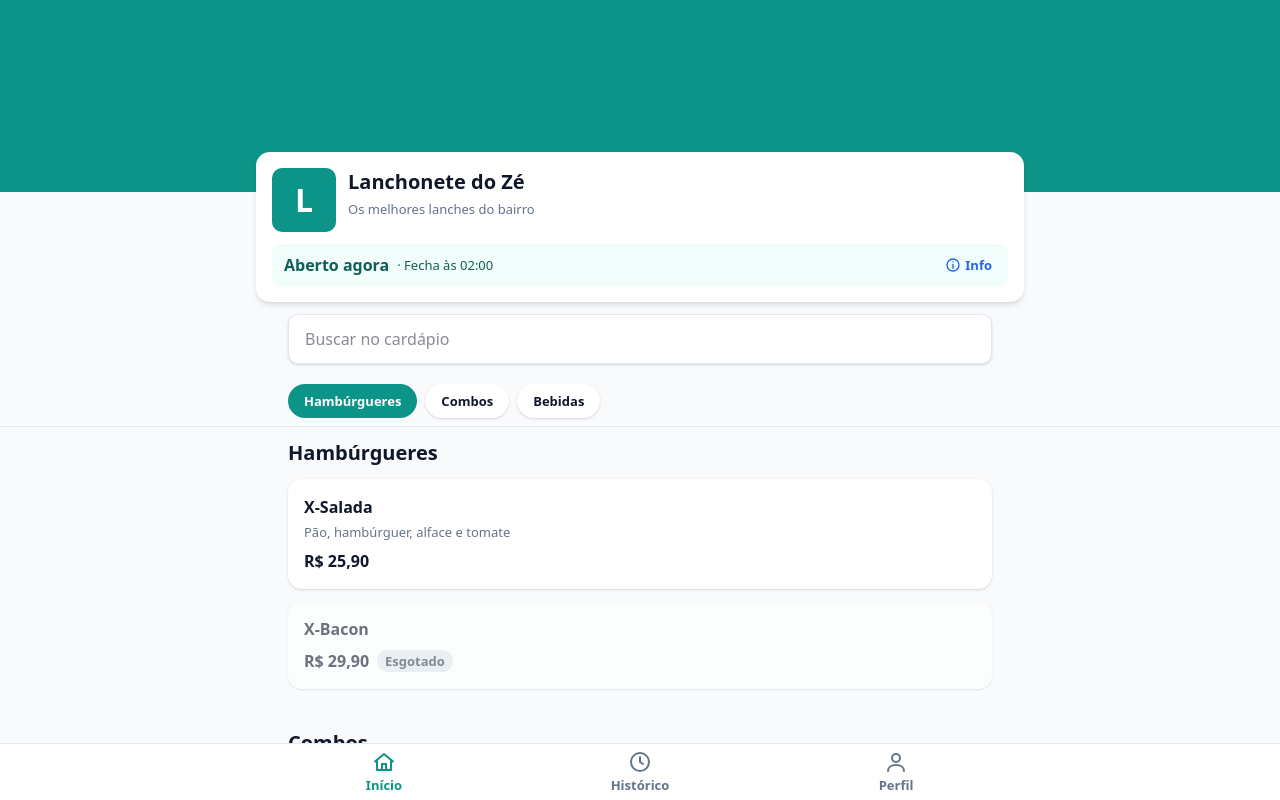
it: escolher o produto › o botão mostra o preço com opções e quantidade
Check: the heading "Lanchonete do Zé" is shown, box [348,168,535,196]
Click the button "X-Salada" at (338, 507), box [304,495,373,519]
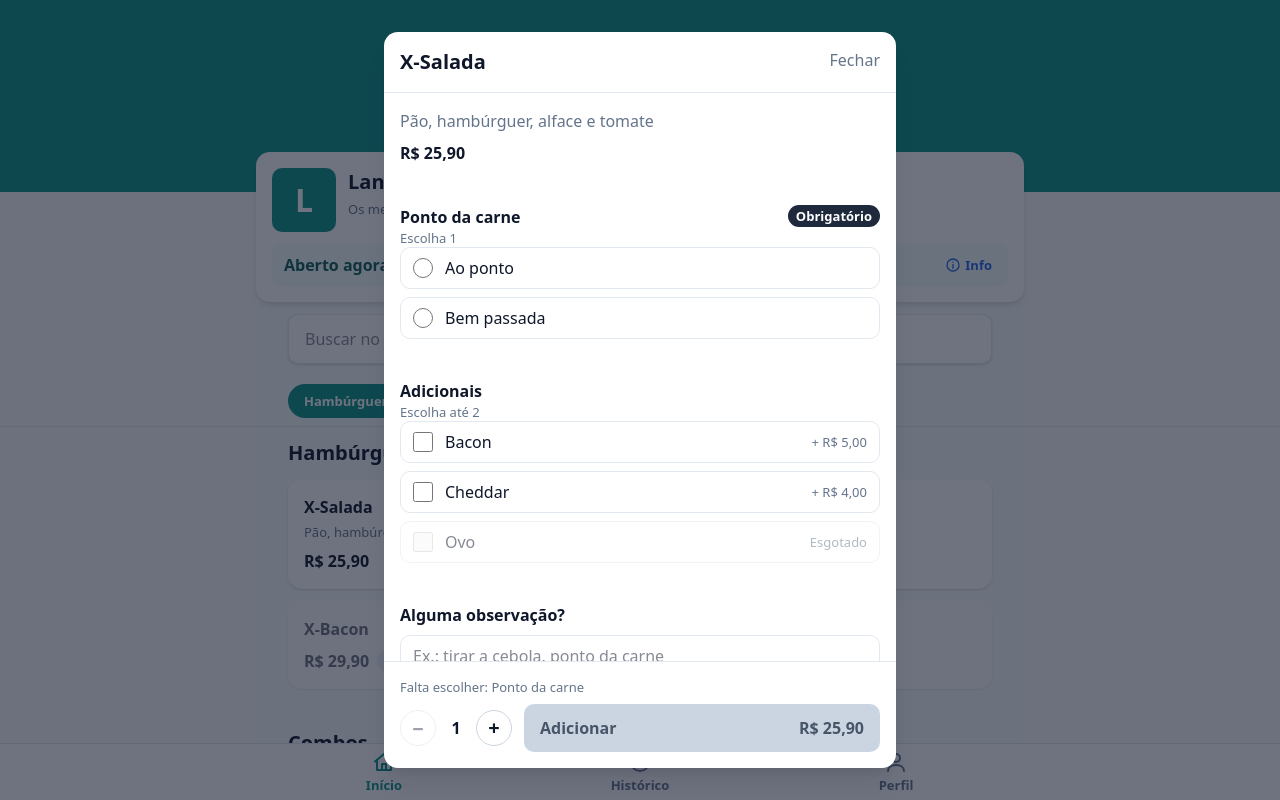
Click the radio button labelled "Ao ponto" at (423, 268), box [413,258,433,278]
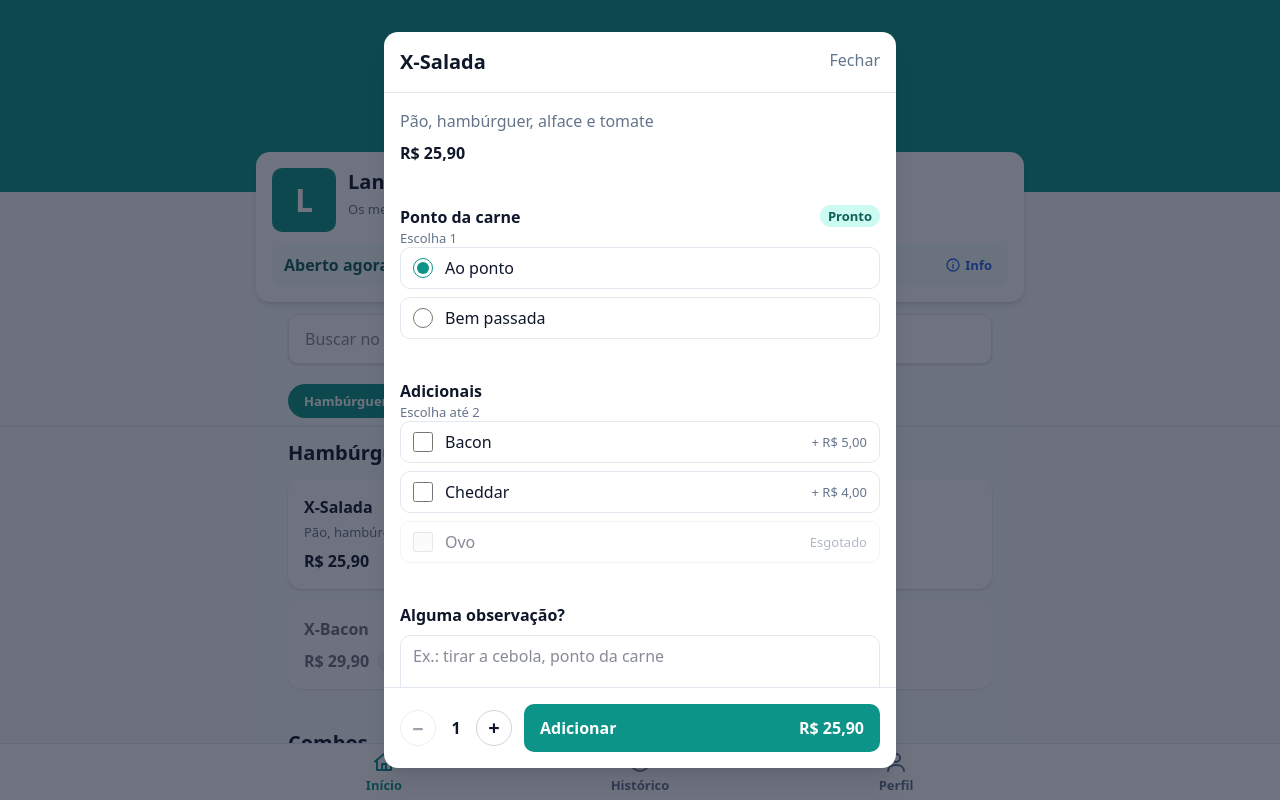
Click the checkbox labelled "Bacon + R$ 5,00" at (423, 442), box [413,432,433,452]
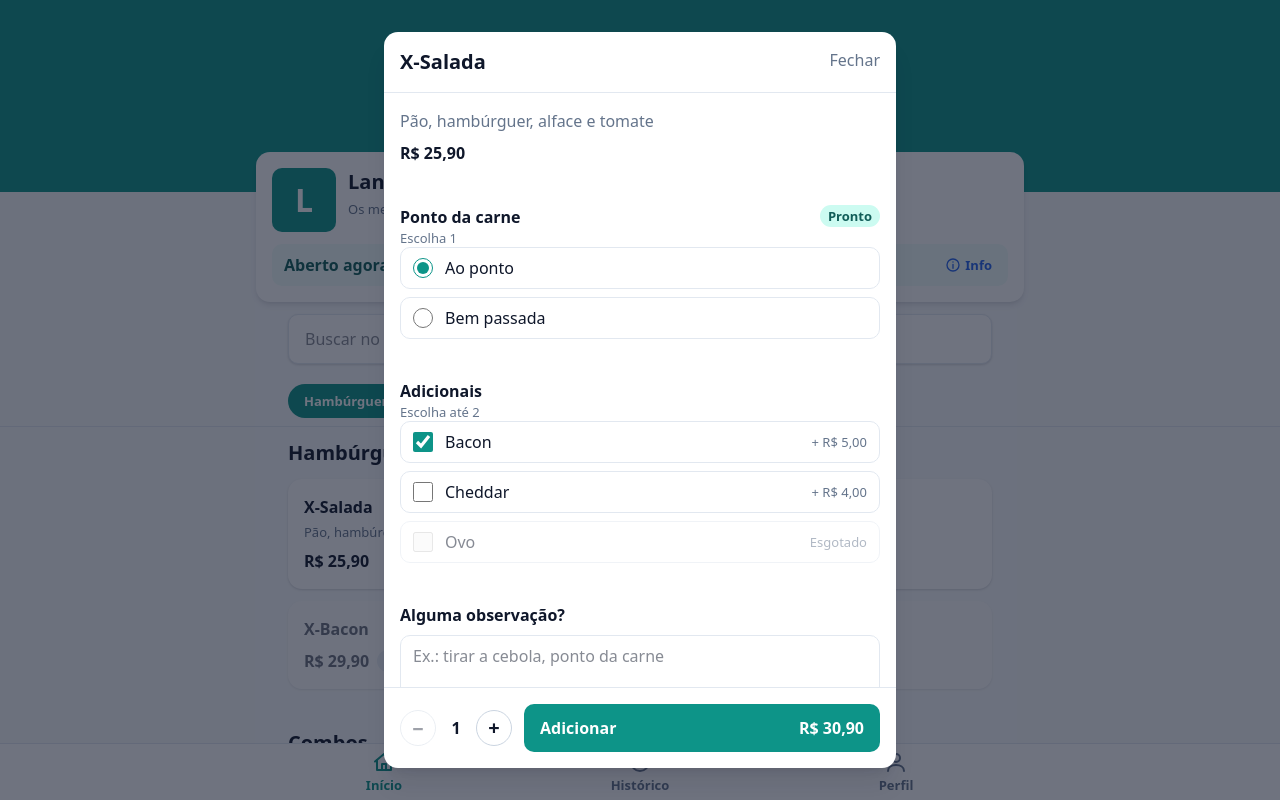
Click the checkbox labelled "Cheddar + R$ 4,00" at (423, 492), box [413,482,433,502]
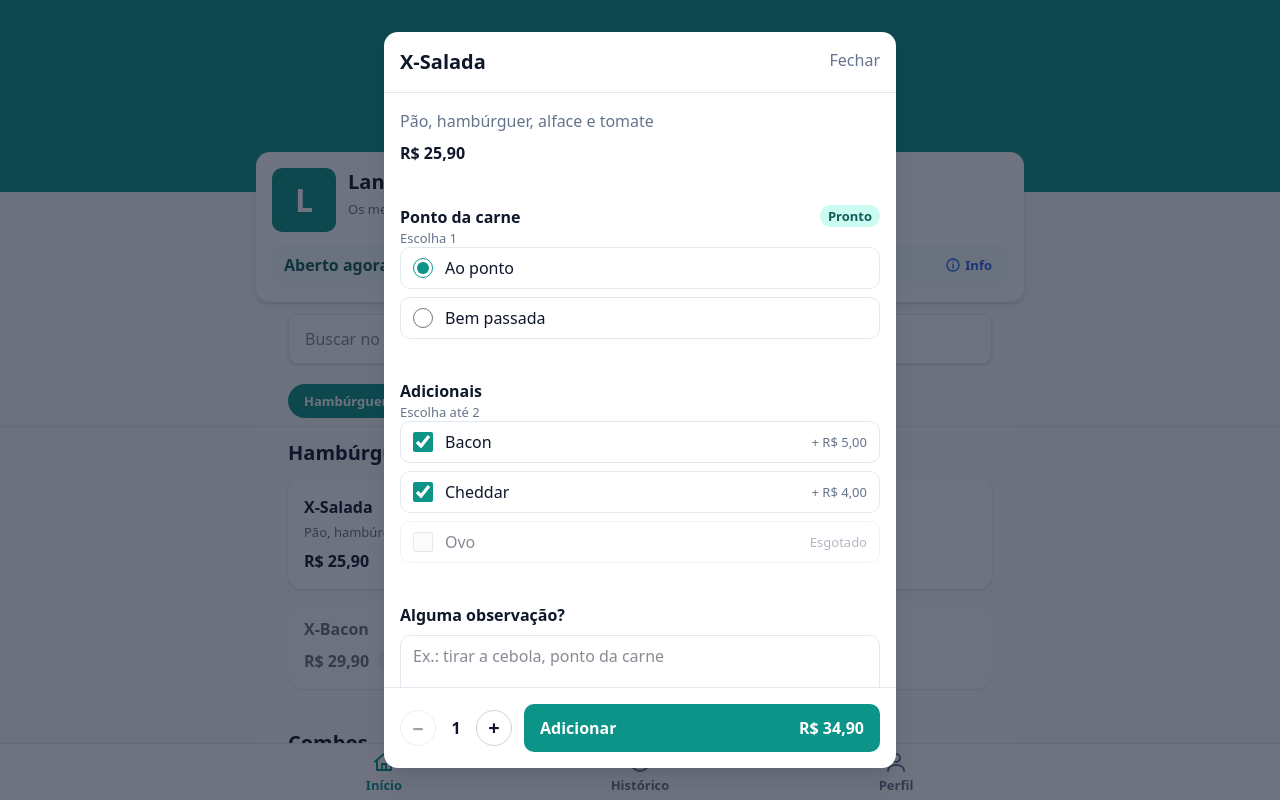
Click the button named "Aumentar quantidade" at (494, 728), box [476,710,512,746]
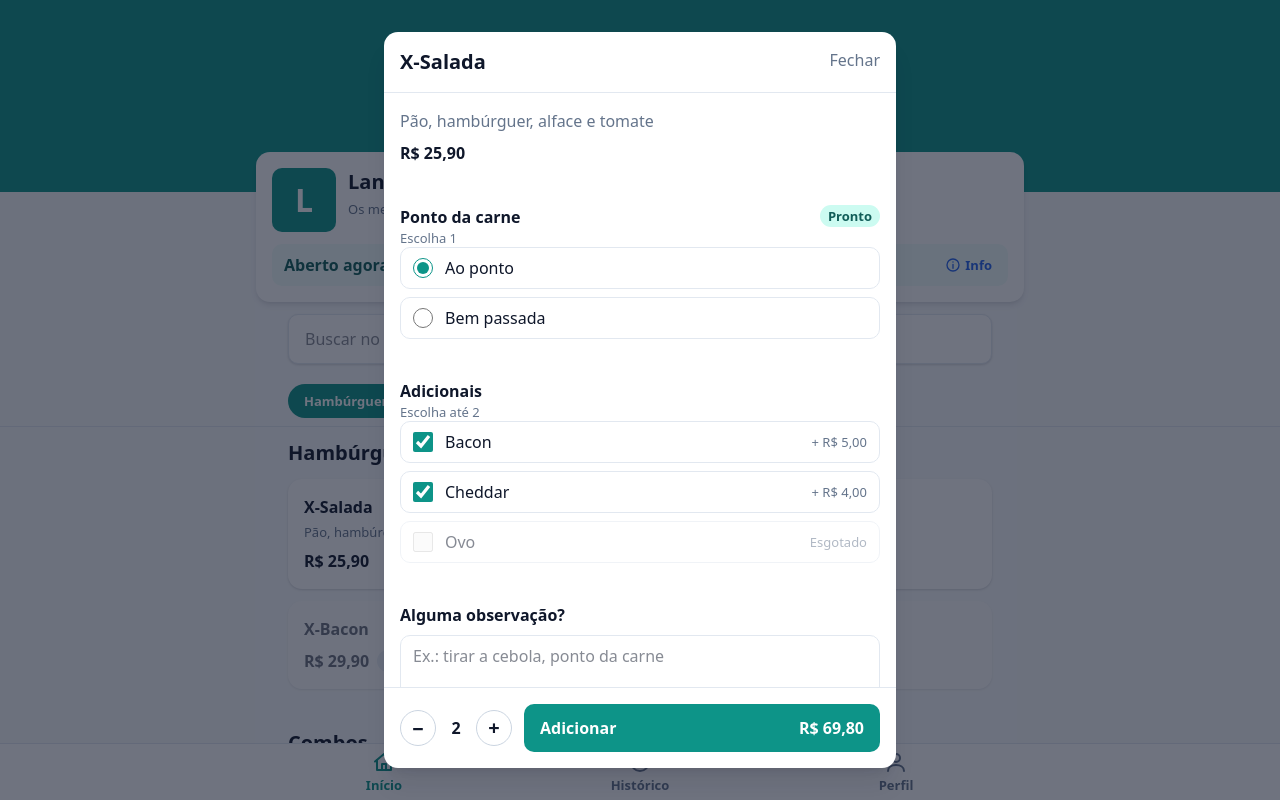
Check: the button "Adicionar R$ 69,80" is shown, box [524,704,880,752]
